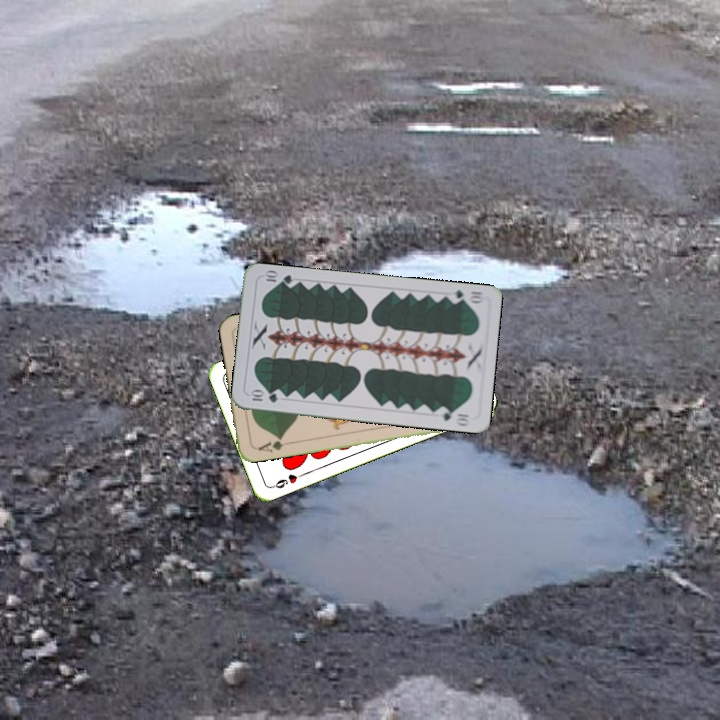G10: (445, 286, 486, 306), (246, 387, 281, 405)
GA: (252, 433, 292, 455)
H9: (267, 470, 307, 491)
